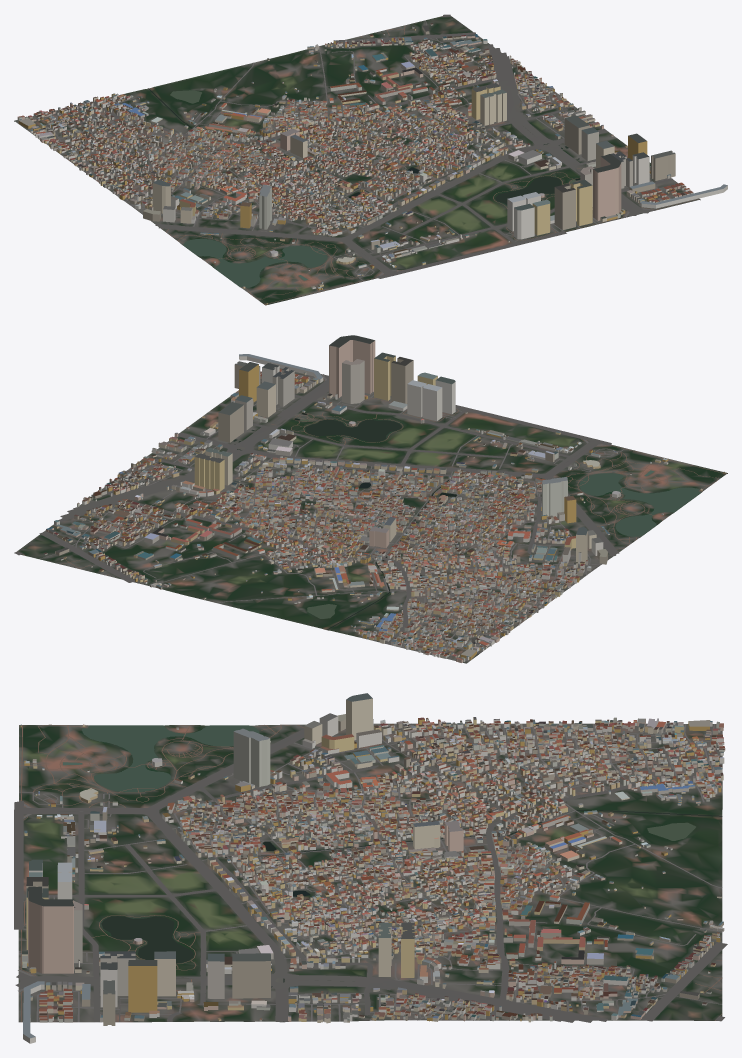
3 views of the same model, one above another, from view 1: azimuth 30°, elevation 25°; view 2: azimuth 150°, elevation 25°; view 3: azimuth 270°, elevation 25° (orthographic). The views are drawn at different scales.
Visible parts, largest first — view 1: buildings, ground, roads, water; view 2: buildings, ground, roads, water; view 3: buildings, ground, roads, water.
Part boxes in pixels (x1,y1,x2,y2): buildings: (17,23,727,304); ground: (14,16,700,305); roads: (17,14,698,304); water: (148,88,580,287); buildings: (43,335,725,662); ground: (14,368,727,663); roads: (14,374,726,661); water: (233,413,700,629); buildings: (20,693,725,1043); ground: (18,723,722,1022); roads: (14,723,727,1022); water: (63,725,722,1021).
Size of the model in its own units: 1510 by 153 by 1422.
